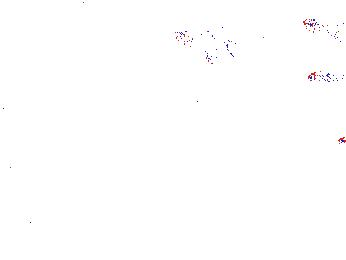red belly glassfish: (305, 67, 346, 85)
redtail glassfish: (172, 27, 240, 62), (301, 15, 346, 42)
